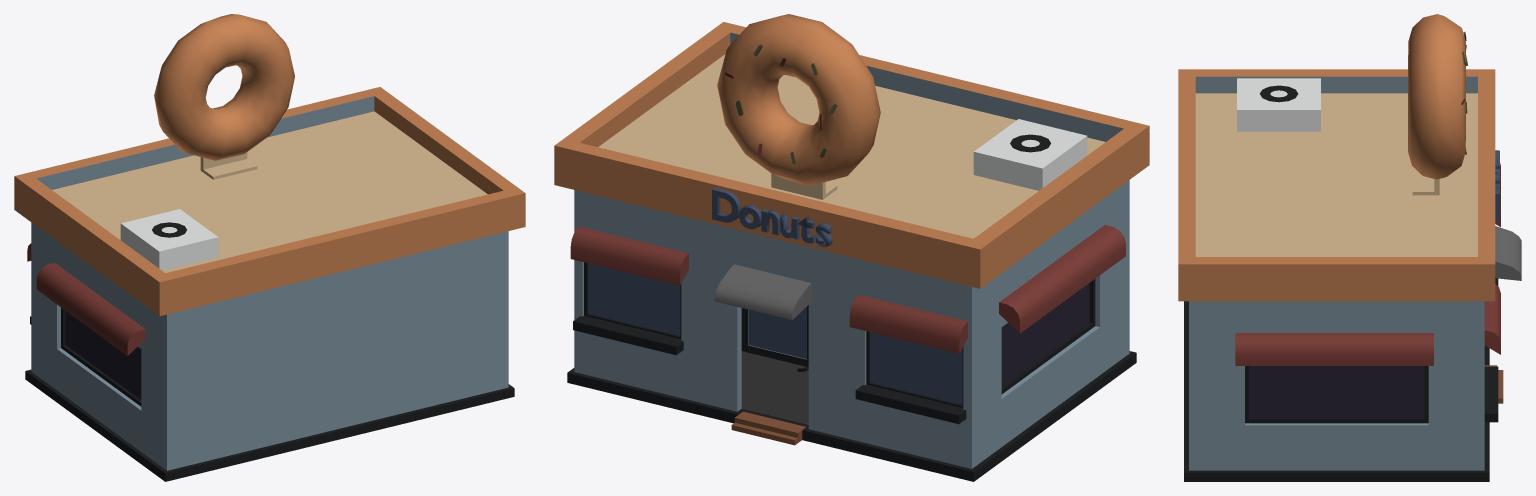
The model's file is donut.fbx.
3 views of the same model, side by side, from view 1: azimuth 30°, elevation 25°; view 2: azimuth 150°, elevation 25°; view 3: azimuth 270°, elevation 25° (orthographic). The views are drawn at different scales.
Visible parts, largest first — view 1: donut; view 2: donut; view 3: donut.
Boxes of the visible parts, left/top/right/bottom form: donut: left=14, top=14, right=525, bottom=481; donut: left=554, top=14, right=1149, bottom=481; donut: left=1178, top=14, right=1521, bottom=481.
Bounding box in the file's own units: 980 × 839 × 711.
